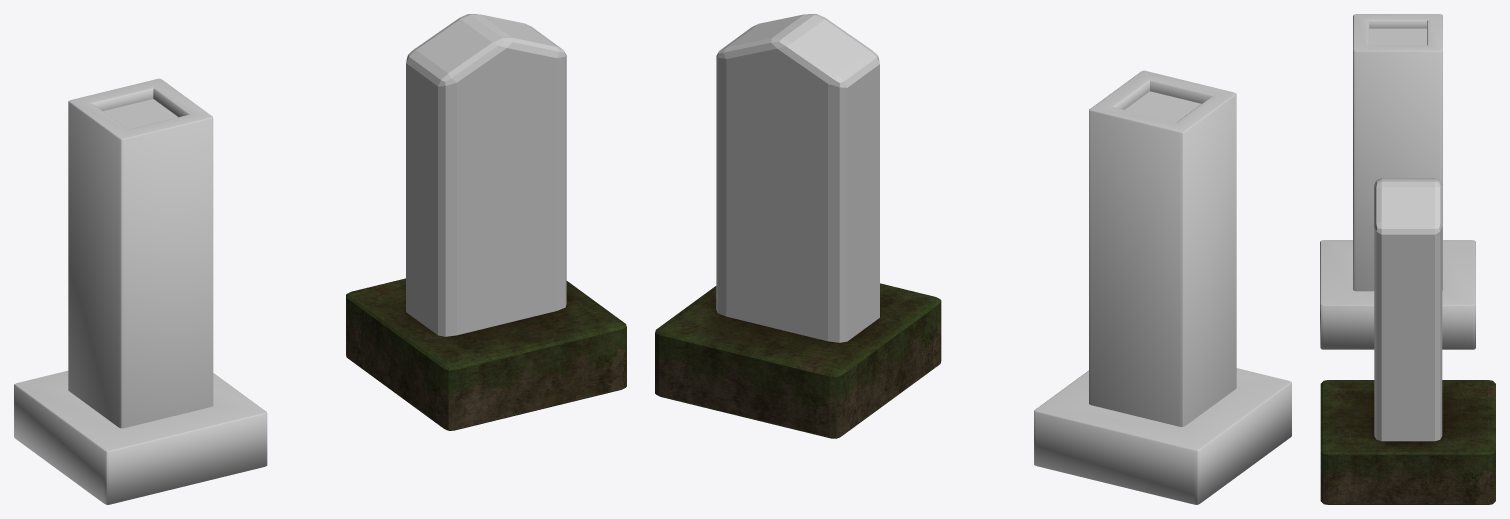
The model's file is Grave stone.fbx.
3 renders of one model, left to right at view 1: azimuth 30°, elevation 25°; view 2: azimuth 150°, elevation 25°; view 3: azimuth 270°, elevation 25°, orthographic. The views are drawn at different scales.
Parts seen in each view (by area): view 1: SO_005, SO_004_Top, SO_004_Base; view 2: SO_005, SO_004_Top, SO_004_Base; view 3: SO_005, SO_004_Top, SO_004_Base.
Part boxes in pixels (bbox=[...]): SO_005: bbox=[14, 78, 267, 504]; SO_004_Top: bbox=[406, 14, 566, 336]; SO_004_Base: bbox=[346, 278, 626, 430]; SO_005: bbox=[1034, 70, 1291, 504]; SO_004_Top: bbox=[716, 14, 879, 342]; SO_004_Base: bbox=[655, 283, 941, 438]; SO_005: bbox=[1320, 14, 1475, 349]; SO_004_Top: bbox=[1374, 178, 1442, 441]; SO_004_Base: bbox=[1320, 380, 1495, 504].
Size of the model in its own units: 214 by 138 by 74.78.
